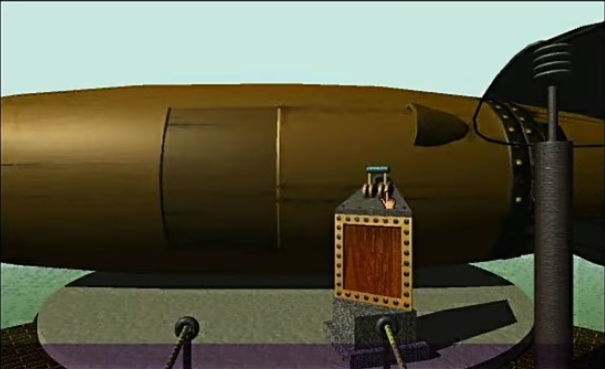Pointer: (378, 189, 400, 211)
